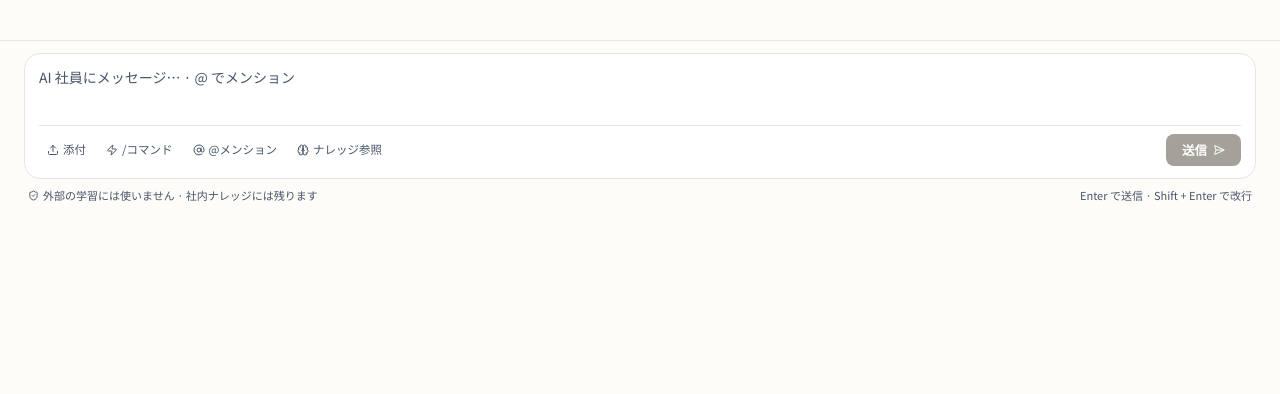
S-E01 ChatContainer (T-UC-08) › streams deltas into an assistant message and shows context summary
The width and height of the screenshot is (1280, 394).
Type "やあ" into the text box named "メッセージを入力" at (640, 89), box [39, 66, 1241, 112]
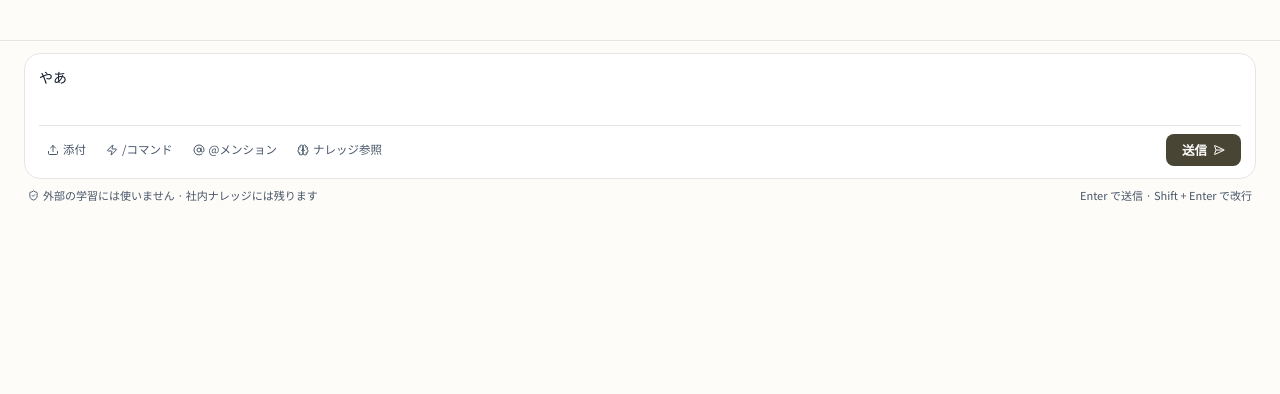
Click the button "送信" at (1204, 150), box [1166, 134, 1241, 166]
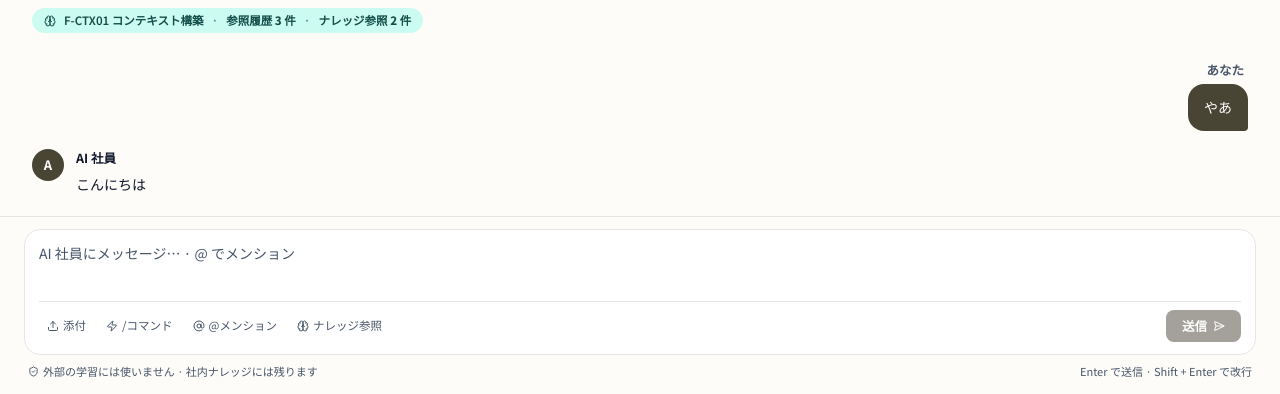
Expected: the text "やあ" is shown, [1188, 84, 1248, 131]
Expected: the text "こんにちは" is shown, [76, 174, 146, 194]
Expected: the element named "F-CTX01 文脈サマリ" shows "3", [275, 12, 282, 28]
